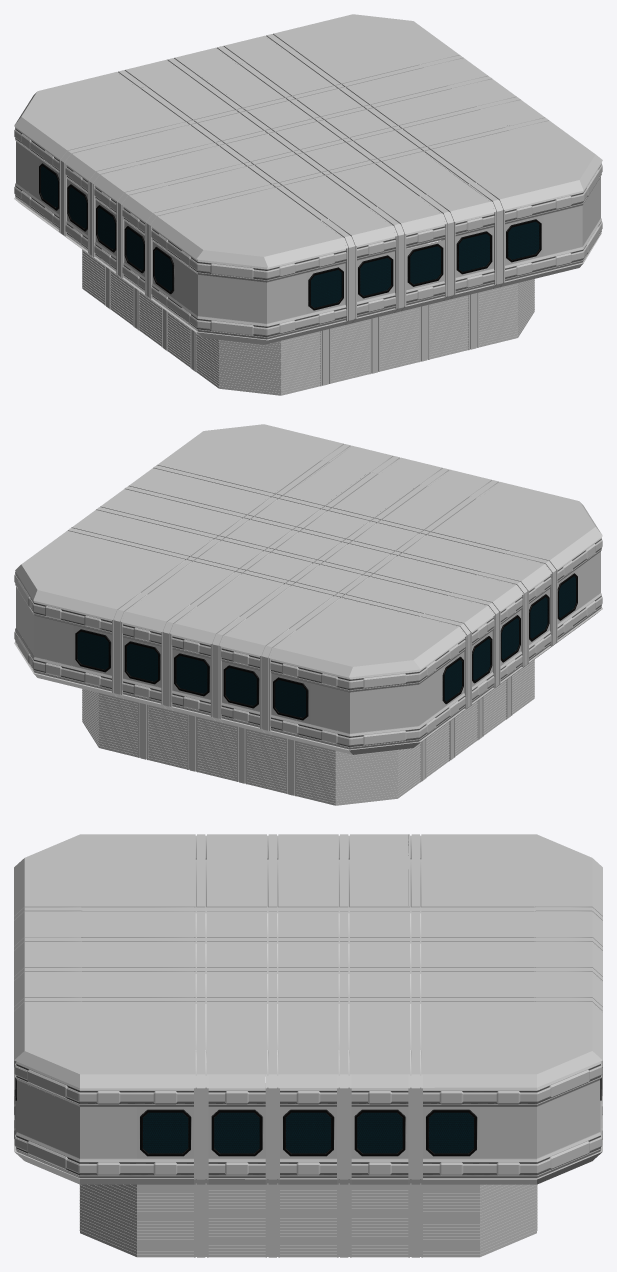
File: RH_FLOOR.fbx
The picture shows the model from 3 angles, top to bottom: view 1: azimuth 30°, elevation 25°; view 2: azimuth 150°, elevation 25°; view 3: azimuth 270°, elevation 25°; orthographic projection. The views are drawn at different scales.
Parts seen in each view (by area): view 1: roofEdge_1x1.318_wall4b_2x2.000_Cube.000, wall4a_2x2.003_Cube.007, wall4a_2x4.005_Cube.008, wall2_2x2.001_Cube.012, wall2_2x2.001_Cube.016, wall2_2x2.001_Cube.094_wall2_2x2.001_Cube.001, beam_0.5x2_Cube.391_beam_0.5x2_Cube.045, beam_0.5x3_tri_Cube.011_beam_0.5x3_tri_Cube.011, beam_0.5x2_Cube.391_beam_0.5x2_Cube.048, beam_0.5x2_Cube.391_beam_0.5x2_Cube.010, beam_0.5x2_Cube.025_beam_0.5x2_Cube.003, wall2_2x2.001_Cube.165_wall2_2x2.001_Cube.003 (+2 smaller); view 2: roofEdge_1x1.318_wall4b_2x2.000_Cube.000, wall4a_2x2.003_Cube.007, wall4a_2x4.005_Cube.008, wall2_2x2.001_Cube.012, wall2_2x2.001_Cube.016, wall2_2x2.001_Cube.094_wall2_2x2.001_Cube.001, beam_0.5x2_Cube.391_beam_0.5x2_Cube.045, beam_0.5x3_tri_Cube.011_beam_0.5x3_tri_Cube.011, beam_0.5x2_Cube.391_beam_0.5x2_Cube.048, beam_0.5x2_Cube.391_beam_0.5x2_Cube.010, beam_0.5x2_Cube.025_beam_0.5x2_Cube.003, wall2_2x2.001_Cube.165_wall2_2x2.001_Cube.003 (+2 smaller); view 3: roofEdge_1x1.318_wall4b_2x2.000_Cube.000, wall4a_2x2.003_Cube.007, wall2_2x2.001_Cube.012, wall4a_2x4.005_Cube.008, wall2_2x2.001_Cube.016, wall2_2x2.001_Cube.094_wall2_2x2.001_Cube.001, beam_0.5x2_Cube.391_beam_0.5x2_Cube.045, beam_0.5x2_Cube.391_beam_0.5x2_Cube.048, beam_0.5x2_Cube.391_beam_0.5x2_Cube.010, beam_0.5x3_tri_Cube.011_beam_0.5x3_tri_Cube.011, wall2_2x2.001_Cube.165_wall2_2x2.001_Cube.003, beam_0.5x2_Cube.025_beam_0.5x2_Cube.003 (+3 smaller).
Part boxes in pixels (<box>): roofEdge_1x1.318_wall4b_2x2.000_Cube.000: <box>14,14,602,267</box>; wall4a_2x2.003_Cube.007: <box>14,127,583,339</box>; wall4a_2x4.005_Cube.008: <box>38,158,543,313</box>; wall2_2x2.001_Cube.012: <box>82,249,534,395</box>; wall2_2x2.001_Cube.016: <box>110,270,468,383</box>; wall2_2x2.001_Cube.094_wall2_2x2.001_Cube.001: <box>16,142,600,323</box>; beam_0.5x2_Cube.391_beam_0.5x2_Cube.045: <box>106,50,510,221</box>; beam_0.5x3_tri_Cube.011_beam_0.5x3_tri_Cube.011: <box>59,34,504,325</box>; beam_0.5x2_Cube.391_beam_0.5x2_Cube.048: <box>190,85,426,185</box>; beam_0.5x2_Cube.391_beam_0.5x2_Cube.010: <box>67,33,549,238</box>; beam_0.5x2_Cube.025_beam_0.5x2_Cube.003: <box>104,266,478,386</box>; wall2_2x2.001_Cube.165_wall2_2x2.001_Cube.003: <box>14,129,602,339</box>; roofEdge_1x1.318_wall4b_2x2.000_Cube.000: <box>15,424,602,677</box>; wall4a_2x2.003_Cube.007: <box>33,499,602,749</box>; wall4a_2x4.005_Cube.008: <box>73,568,578,723</box>; wall2_2x2.001_Cube.012: <box>82,659,534,805</box>; wall2_2x2.001_Cube.016: <box>148,680,506,793</box>; wall2_2x2.001_Cube.094_wall2_2x2.001_Cube.001: <box>16,552,600,733</box>; beam_0.5x2_Cube.391_beam_0.5x2_Cube.045: <box>106,460,510,631</box>; beam_0.5x3_tri_Cube.011_beam_0.5x3_tri_Cube.011: <box>71,444,557,735</box>; beam_0.5x2_Cube.391_beam_0.5x2_Cube.048: <box>190,495,426,595</box>; beam_0.5x2_Cube.391_beam_0.5x2_Cube.010: <box>67,443,549,648</box>; beam_0.5x2_Cube.025_beam_0.5x2_Cube.003: <box>138,676,512,796</box>; wall2_2x2.001_Cube.165_wall2_2x2.001_Cube.003: <box>14,539,602,749</box>; roofEdge_1x1.318_wall4b_2x2.000_Cube.000: <box>14,834,602,1088</box>; wall4a_2x2.003_Cube.007: <box>14,841,602,1178</box>; wall2_2x2.001_Cube.012: <box>79,1184,537,1257</box>; wall4a_2x4.005_Cube.008: <box>15,1077,601,1158</box>; wall2_2x2.001_Cube.016: <box>208,1184,408,1257</box>; wall2_2x2.001_Cube.094_wall2_2x2.001_Cube.001: <box>17,1080,600,1158</box>; beam_0.5x2_Cube.391_beam_0.5x2_Cube.045: <box>81,858,535,1051</box>; beam_0.5x2_Cube.391_beam_0.5x2_Cube.048: <box>194,906,422,1002</box>; beam_0.5x2_Cube.391_beam_0.5x2_Cube.010: <box>24,834,592,1075</box>; beam_0.5x3_tri_Cube.011_beam_0.5x3_tri_Cube.011: <box>14,834,602,1184</box>; wall2_2x2.001_Cube.165_wall2_2x2.001_Cube.003: <box>14,1061,602,1178</box>; beam_0.5x2_Cube.025_beam_0.5x2_Cube.003: <box>194,1183,422,1257</box>.
Bounding box in the file's own units: 2068 × 800 × 2068.
